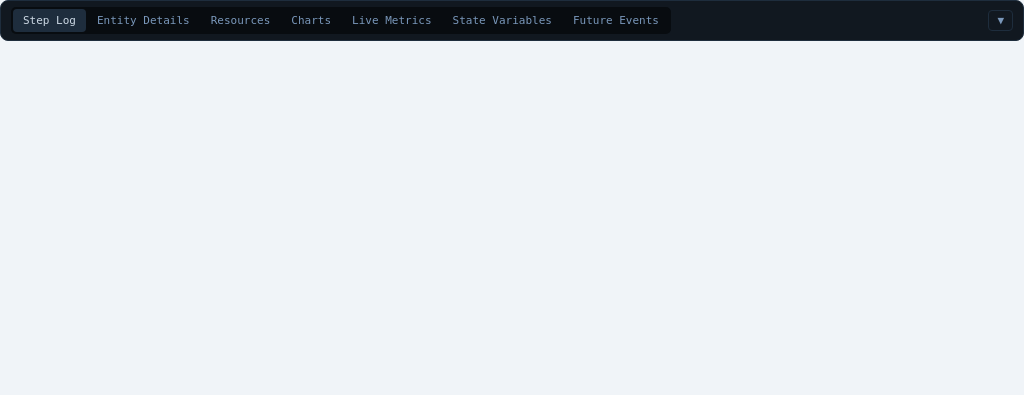
Scenario: BottomPanel State Variables tab › shows an empty state when the model declares no state variables
Click the button named "expand details" at coordinates (1001, 20), box 988,10 -> 1013,31
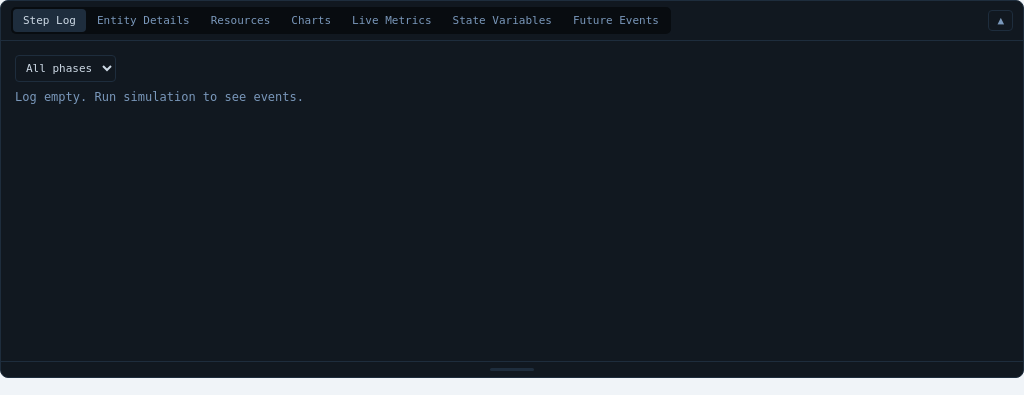
Click the tab "State Variables" at coordinates (502, 20), box 442,9 -> 562,32
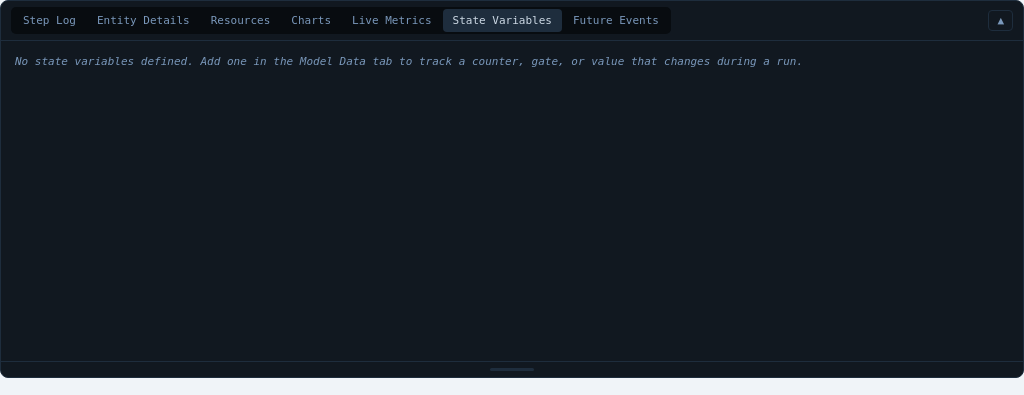
expect the text "No state variables defined" is shown: met, box 15,55 -> 803,68
